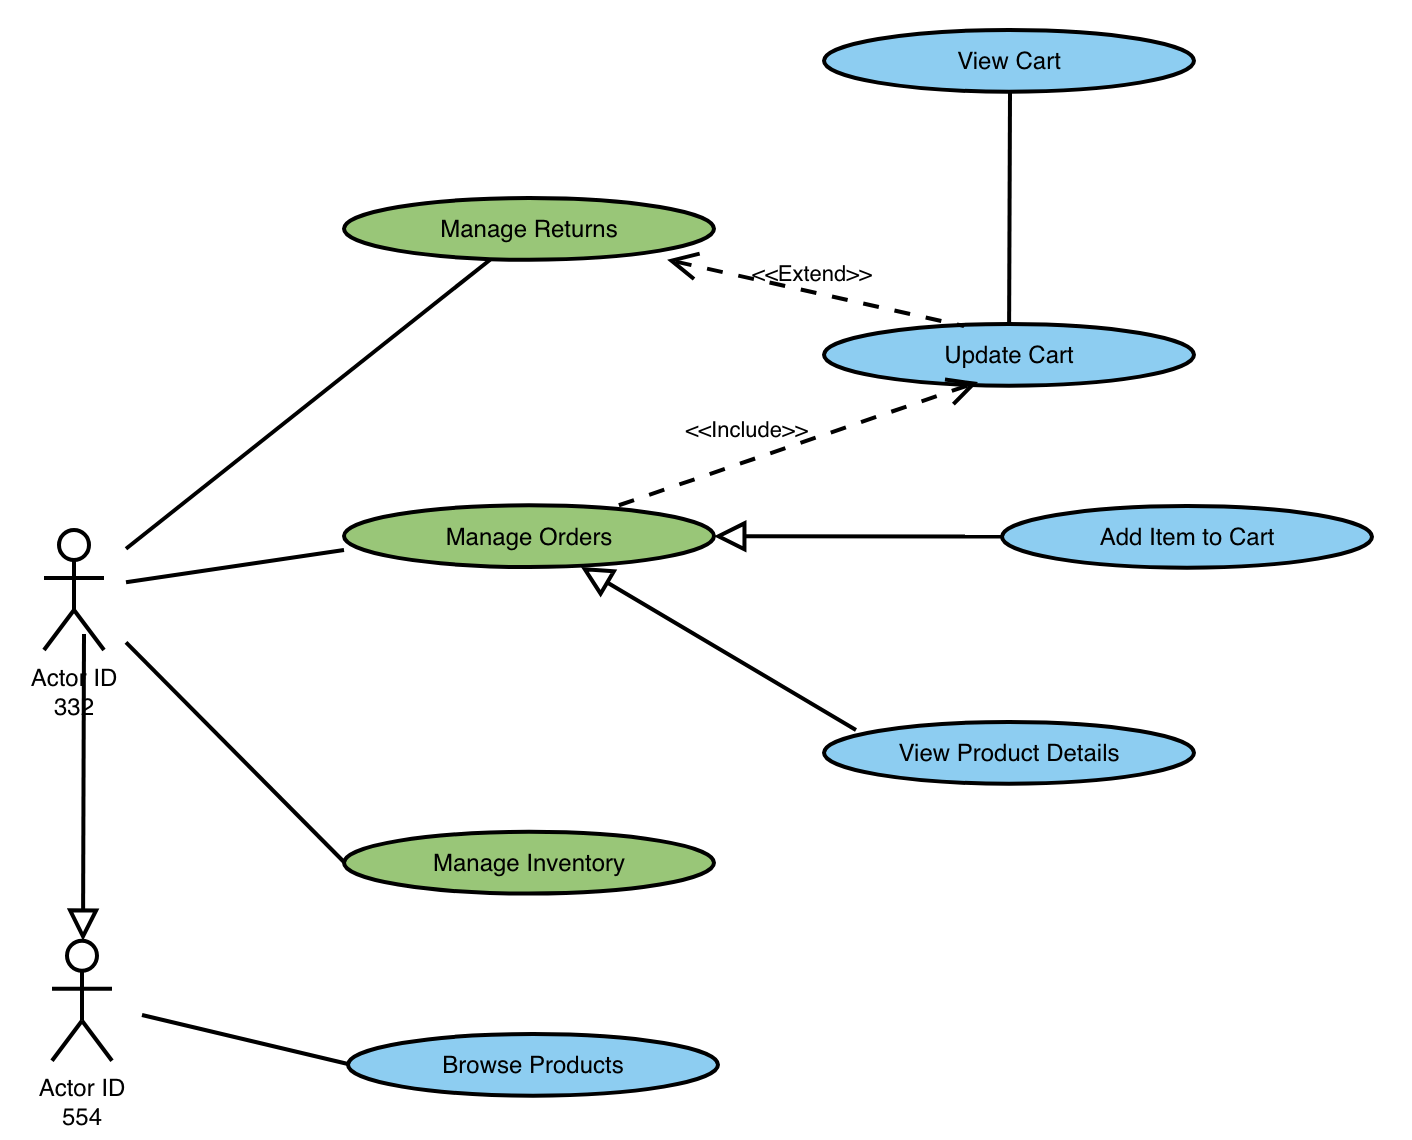actor: (43, 936, 120, 1069), (34, 520, 101, 654)
association: (124, 261, 490, 551), (122, 640, 345, 863), (616, 378, 980, 508), (582, 564, 856, 731), (665, 252, 944, 323), (136, 1006, 347, 1066), (716, 516, 1001, 556), (66, 633, 101, 935), (124, 544, 348, 587), (992, 90, 1029, 320)
text: (899, 732, 1129, 771), (423, 843, 642, 878), (16, 655, 122, 721), (437, 1046, 634, 1080), (434, 211, 622, 245), (1094, 518, 1289, 551), (33, 1073, 133, 1130), (437, 523, 623, 551), (932, 339, 1084, 371), (949, 42, 1065, 80), (682, 409, 810, 441), (748, 258, 880, 288)
use_case: (994, 500, 1378, 572), (815, 718, 1198, 790), (820, 24, 1199, 97), (822, 319, 1195, 392), (340, 503, 719, 573), (340, 192, 716, 263), (347, 1028, 721, 1099), (341, 828, 720, 898)
